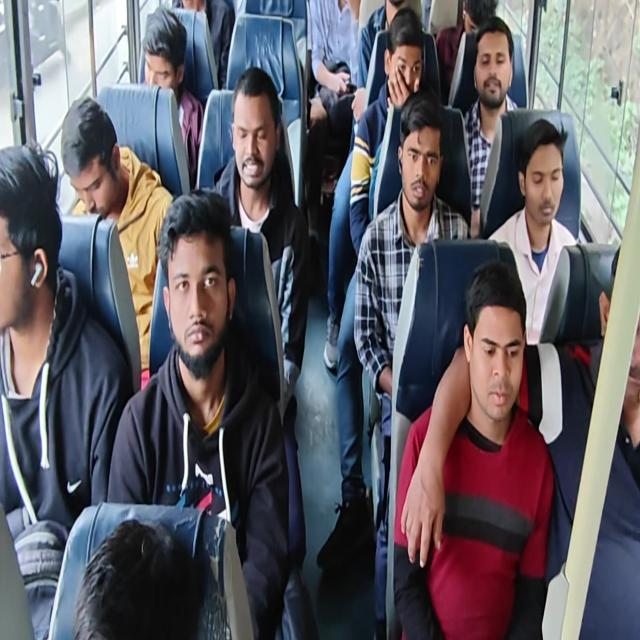person: (64, 521, 246, 640), (162, 210, 232, 367), (466, 262, 527, 424), (0, 144, 46, 326), (594, 234, 640, 401), (59, 110, 118, 218), (393, 119, 444, 217), (232, 81, 272, 195), (137, 15, 189, 100), (522, 131, 566, 230), (471, 31, 508, 110), (387, 35, 422, 111), (458, 0, 491, 44), (378, 0, 407, 13)
